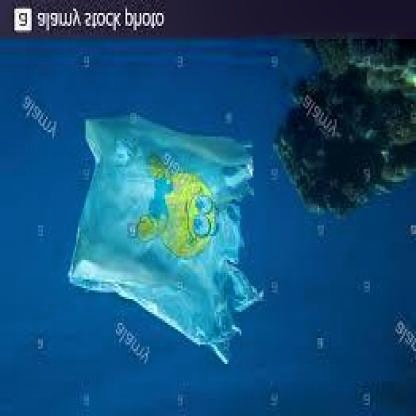pbag: (60, 106, 270, 364)
